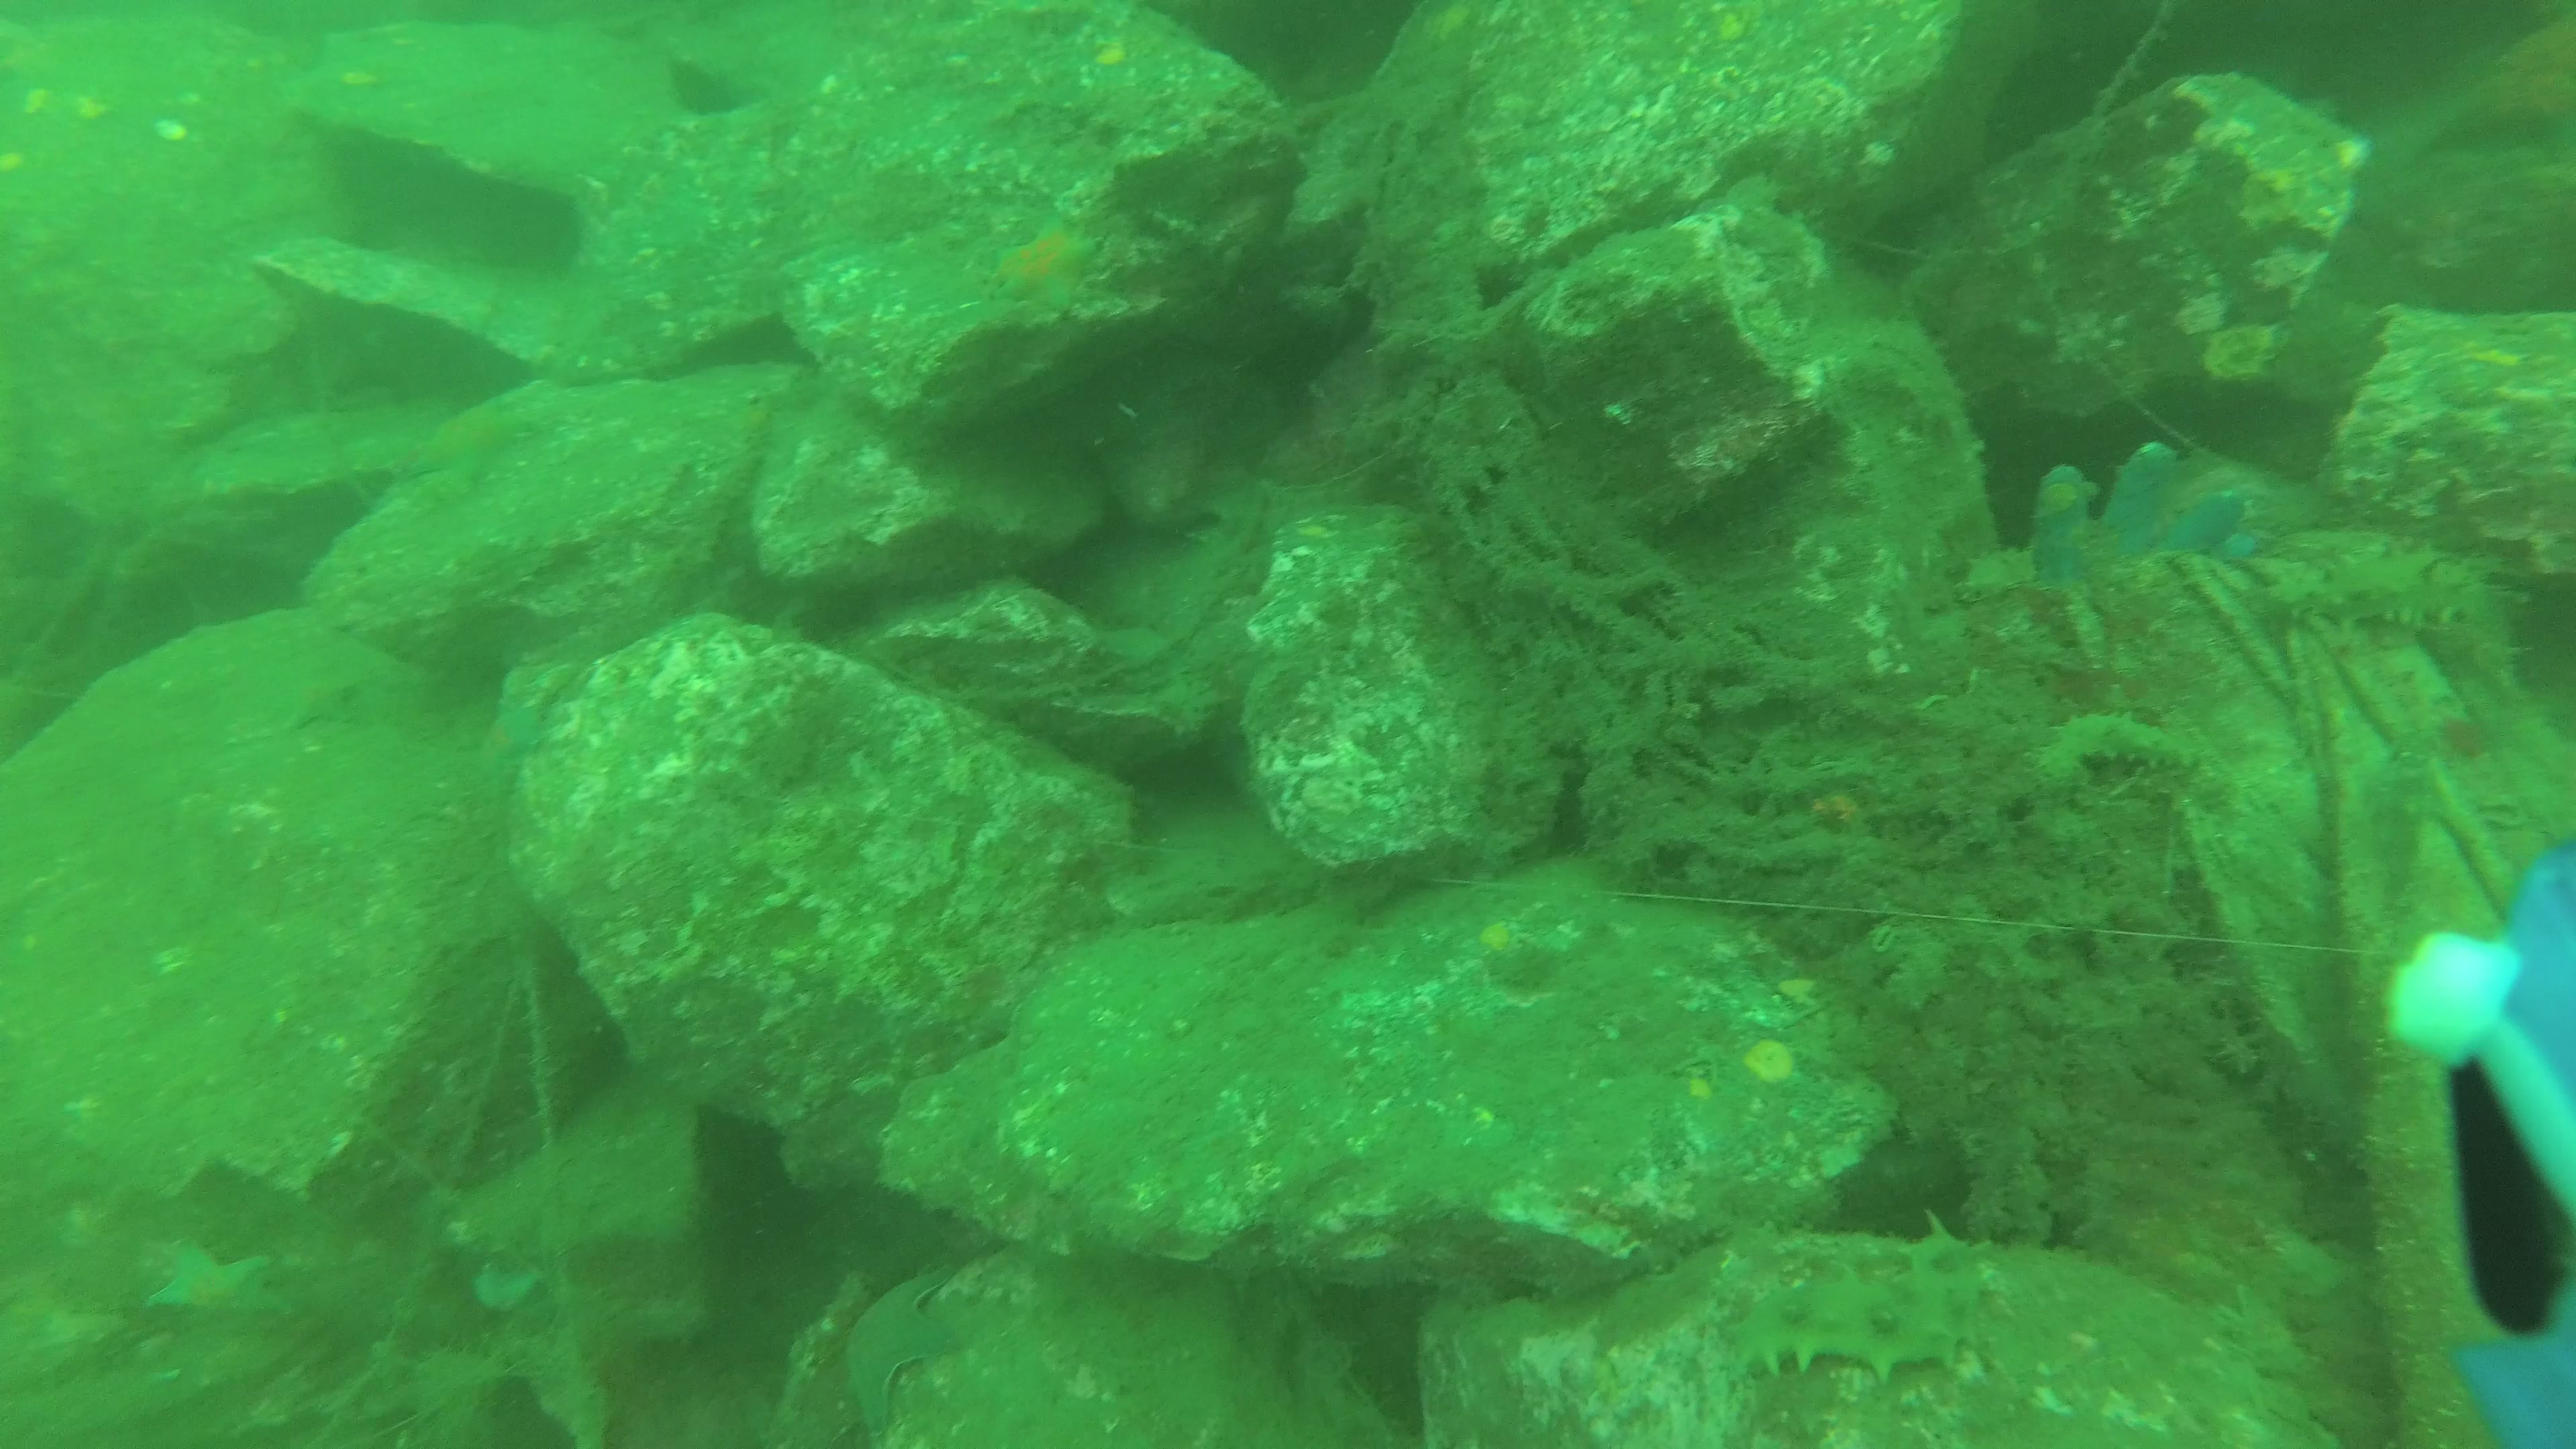holothurian: (1721, 1212, 2006, 1387), (2258, 541, 2493, 644), (2031, 699, 2199, 789)
starfish: (136, 1233, 294, 1336), (977, 207, 1108, 324)
